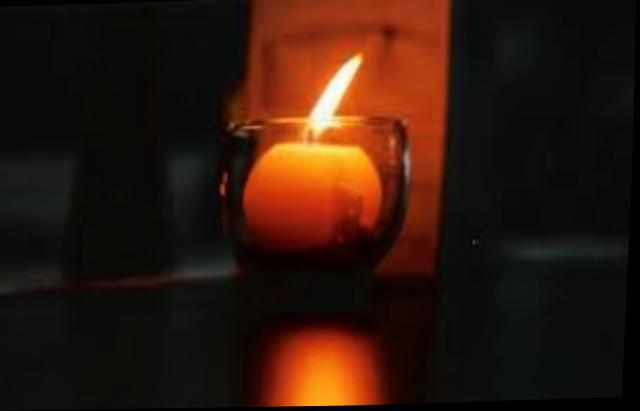fire: (300, 47, 367, 140)
